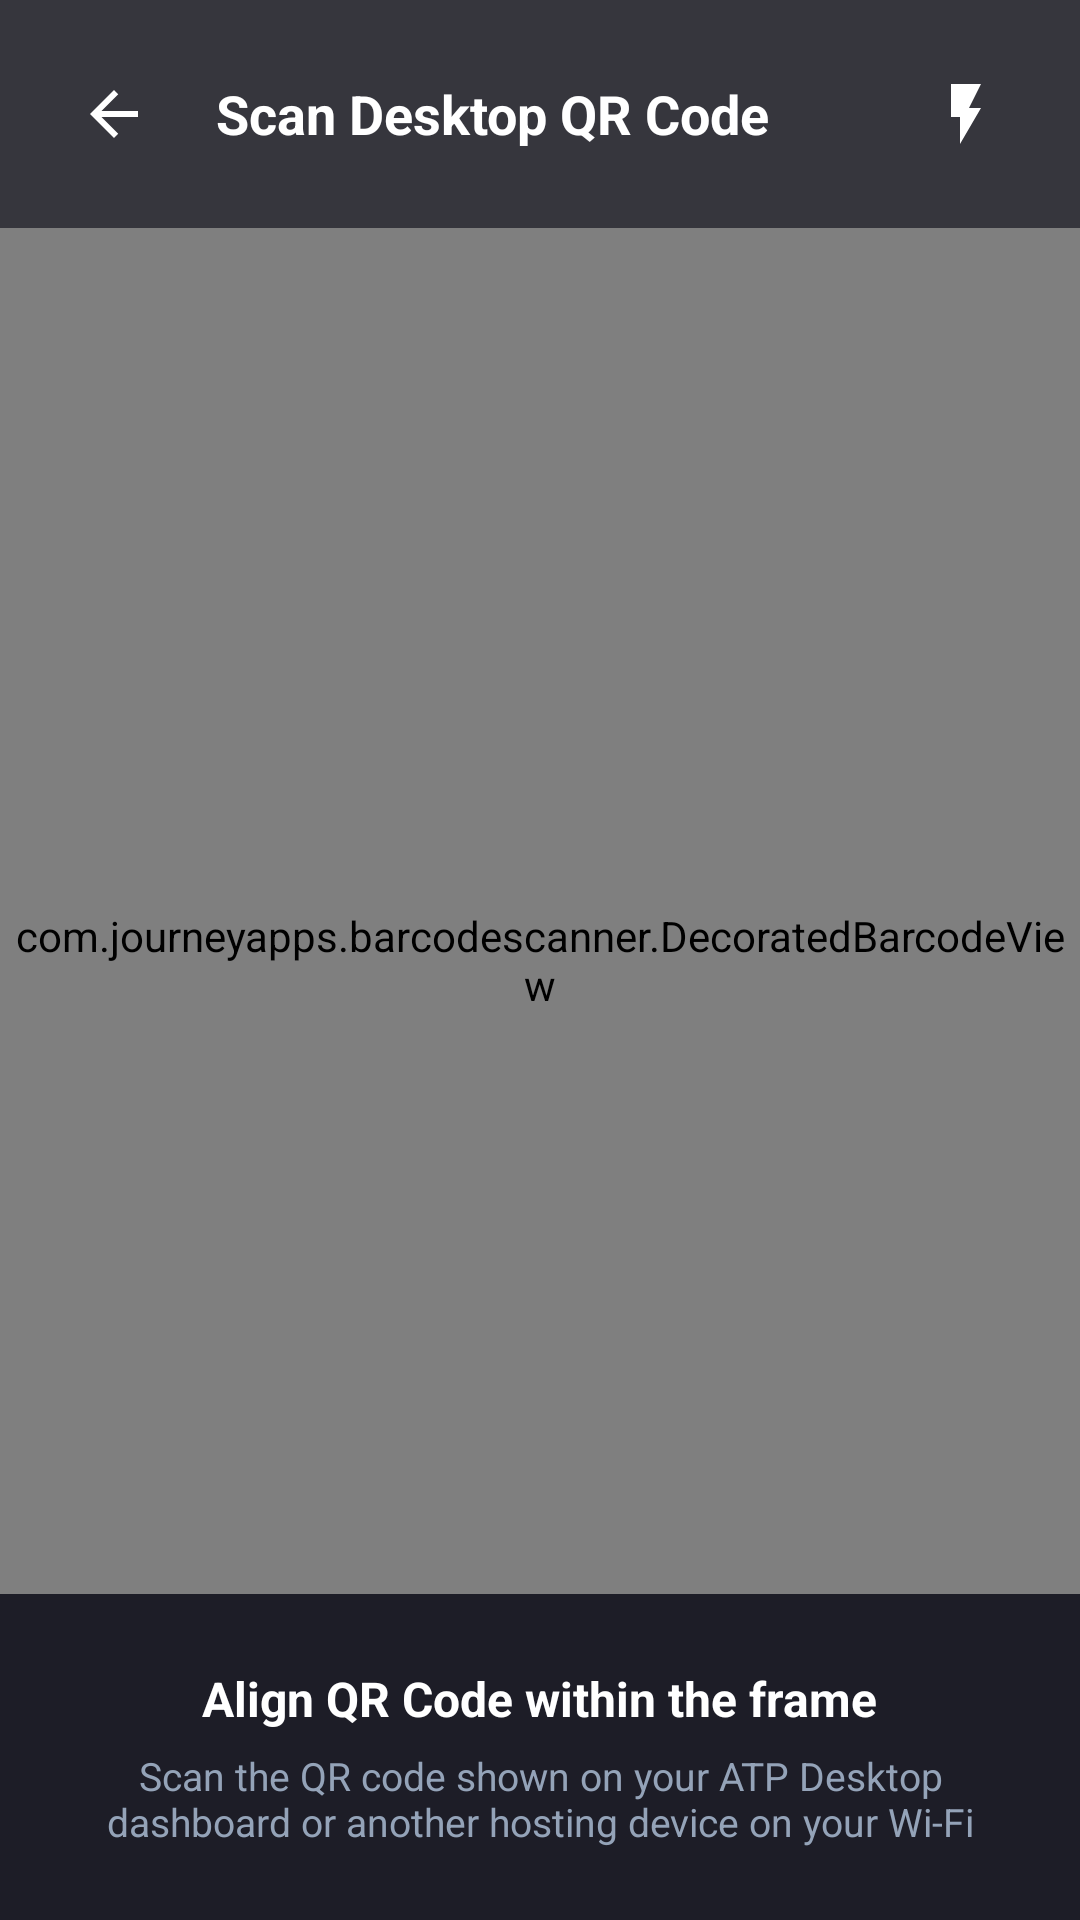

Where to tap for icons on this 1080x1920 app screen, as point (x, y):
Back: point (114, 114)
Toggle Flash: point (966, 114)
